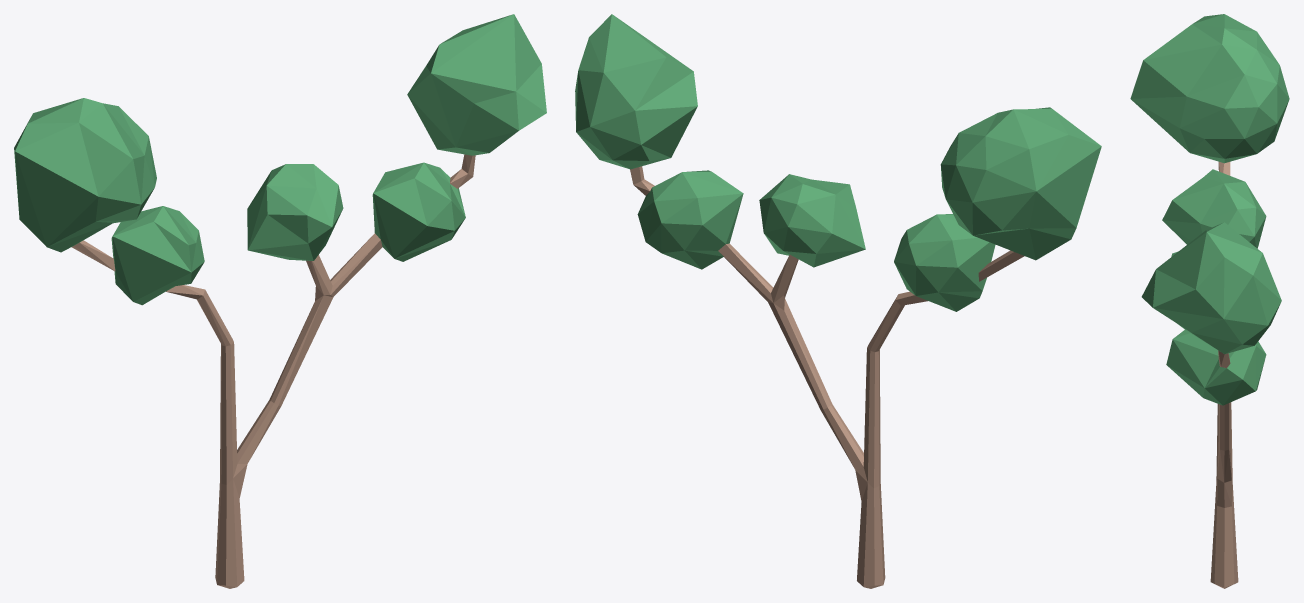
Rendered from tree42.fbx.
3 views of the same model, side by side, from view 1: azimuth 30°, elevation 25°; view 2: azimuth 150°, elevation 25°; view 3: azimuth 270°, elevation 25° (orthographic). The views are drawn at different scales.
Visible parts, largest first — view 1: treetype42; view 2: treetype42; view 3: treetype42.
Boxes of the visible parts, x1,y1,x2,y2 form: treetype42: (14,14,546,588); treetype42: (575,14,1101,588); treetype42: (1130,14,1289,588).
Bounding box in the file's own units: 211 × 200 × 58.58.
